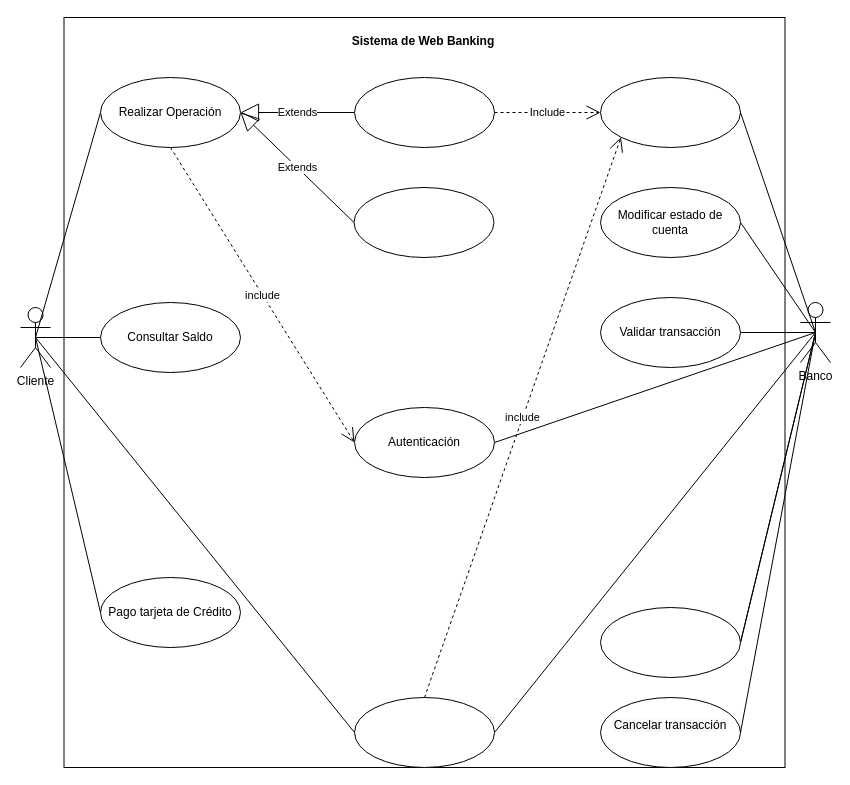
Some shapes in this 850 by 785 pixel diagram are drawn without their labels. Each missing label, with the centre of its shape:
Actualizar Saldo: the point at 670,112
Deposito: the point at 424,112
Pagar Servicios: the point at 423,222
Realizar Transferencias: the point at 424,732
Validar Pin: the point at 670,642
